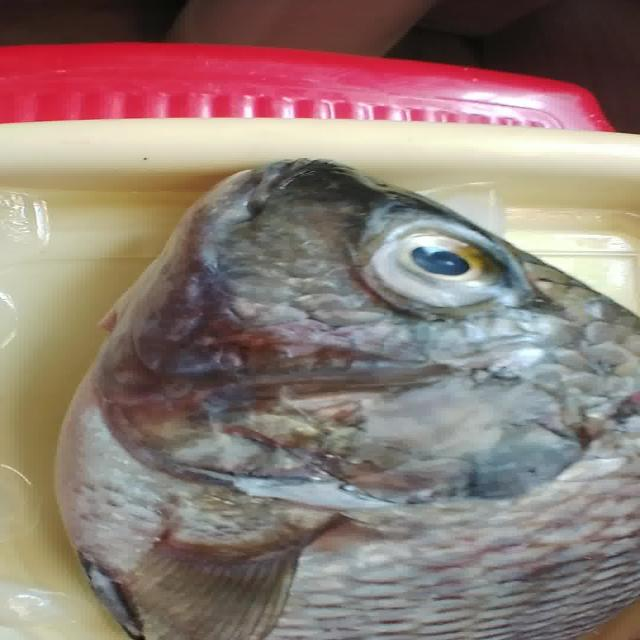Fresh: (340, 205, 547, 319)
